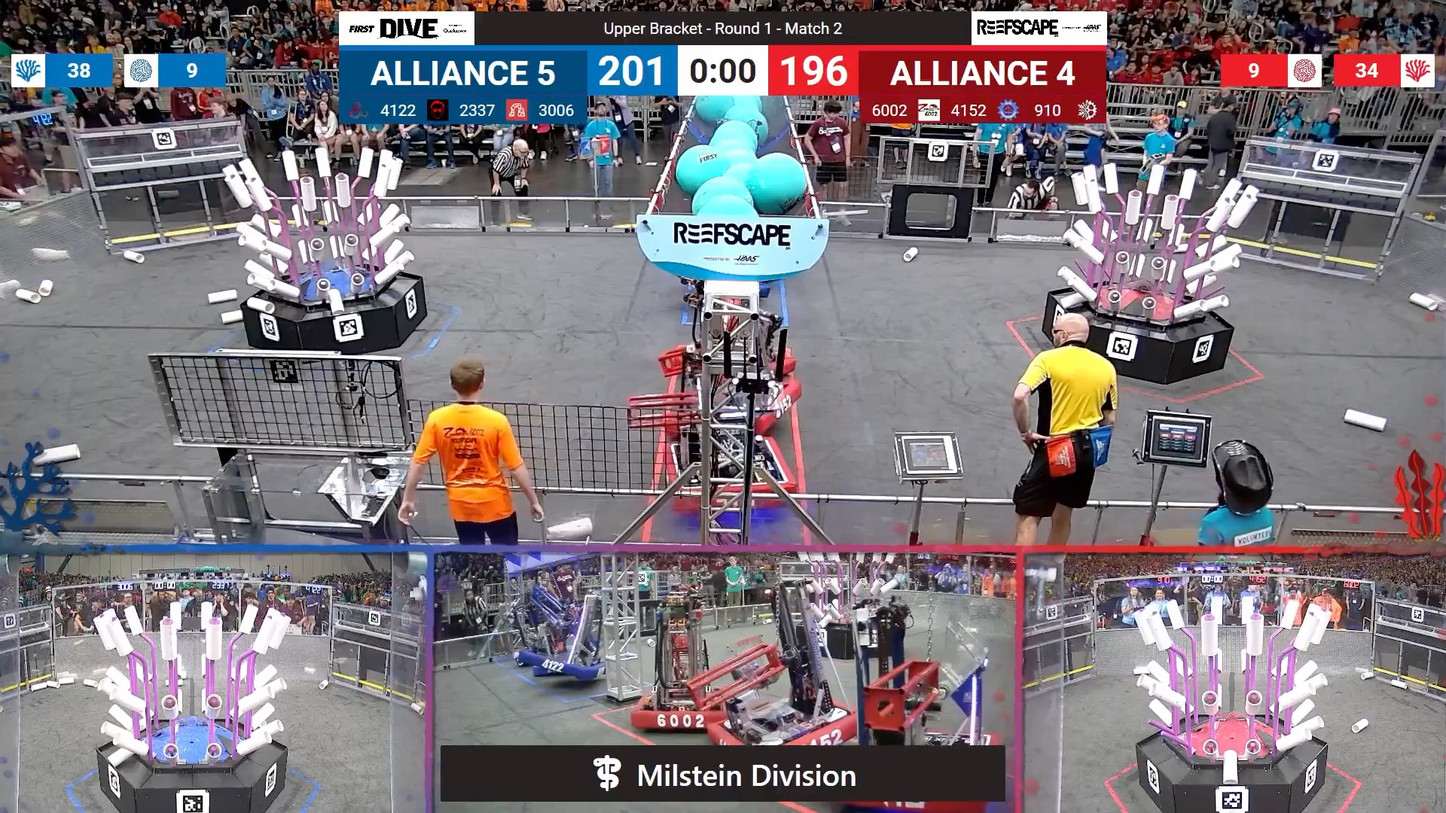bumpers: (703, 705, 865, 751), (520, 655, 611, 684)
